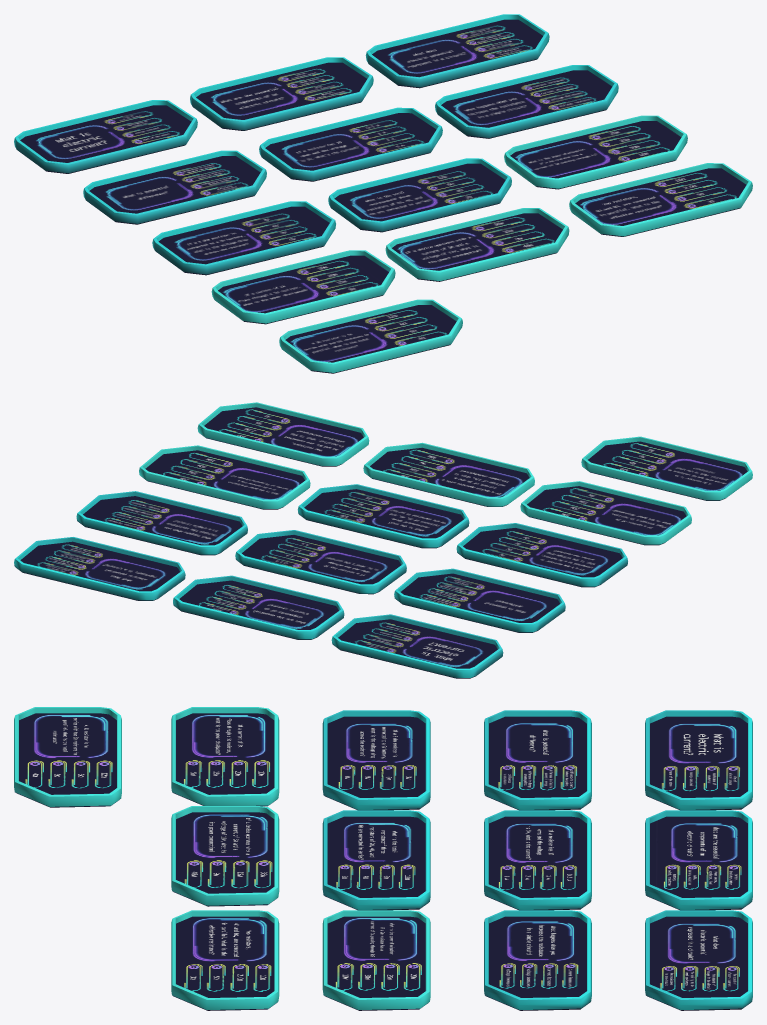
The model's file is Questions.fbx.
3 views of the same model, one above another, from view 1: azimuth 30°, elevation 25°; view 2: azimuth 150°, elevation 25°; view 3: azimuth 270°, elevation 25° (orthographic). The views are drawn at different scales.
Visible parts, largest first — view 1: QA4, QA9, QA13, QA8, QA7, QA12, QA3, QA2, QA1, QA11, QA5, QA10 (+1 smaller); view 2: QA7, QA12, QA1, QA4, QA8, QA6, QA5, QA10, QA9, QA2, QA3, QA13 (+1 smaller); view 3: QA10, QA7, QA8, QA9, QA11, QA4, QA1, QA2, QA3, QA5, QA6, QA13 (+1 smaller).
Boxes of the visible parts, x1,y1,x2,y2 form: QA4: [83, 150, 266, 224]; QA9: [504, 115, 687, 189]; QA13: [279, 299, 462, 373]; QA8: [328, 158, 511, 232]; QA7: [152, 201, 335, 275]; QA12: [211, 250, 395, 324]; QA3: [365, 14, 549, 88]; QA2: [190, 57, 373, 130]; QA1: [14, 100, 197, 173]; QA11: [385, 208, 569, 281]; QA5: [259, 107, 442, 181]; QA10: [569, 163, 752, 236]; QA7: [456, 523, 627, 587]; QA12: [520, 481, 691, 545]; QA1: [331, 614, 503, 678]; QA4: [394, 568, 565, 632]; QA8: [297, 484, 469, 548]; QA6: [76, 491, 247, 555]; QA5: [235, 530, 406, 594]; QA10: [197, 402, 369, 466]; QA9: [139, 445, 310, 509]; QA2: [173, 575, 344, 639]; QA3: [14, 537, 185, 600]; QA13: [581, 436, 752, 500]; QA10: [171, 910, 279, 1010]; QA7: [322, 710, 430, 810]; QA8: [322, 810, 430, 910]; QA9: [322, 910, 430, 1010]; QA11: [171, 806, 279, 906]; QA4: [484, 710, 591, 810]; QA1: [645, 710, 752, 810]; QA2: [645, 810, 752, 910]; QA3: [645, 910, 752, 1010]; QA5: [484, 810, 591, 910]; QA6: [484, 910, 591, 1010]; QA13: [14, 707, 121, 807].
Bounding box in the file's own units: 2158 × 40.69 × 2294.
2 materials, 2 textured.
